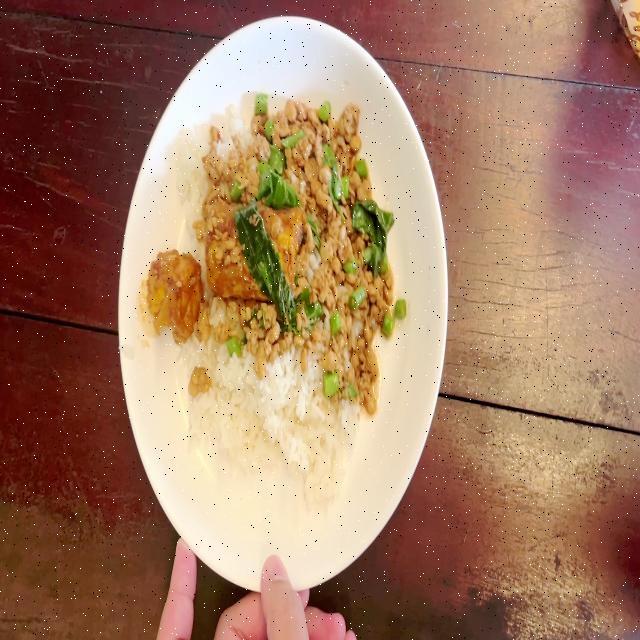fried_tofo: (211, 210, 302, 294), (150, 250, 193, 330)
minced_pork: (211, 99, 388, 208), (302, 205, 393, 401), (207, 297, 310, 355)
rice: (186, 364, 352, 502), (175, 119, 210, 214), (220, 102, 244, 145), (119, 343, 134, 360)
stir_fried_basil: (151, 93, 410, 515)
